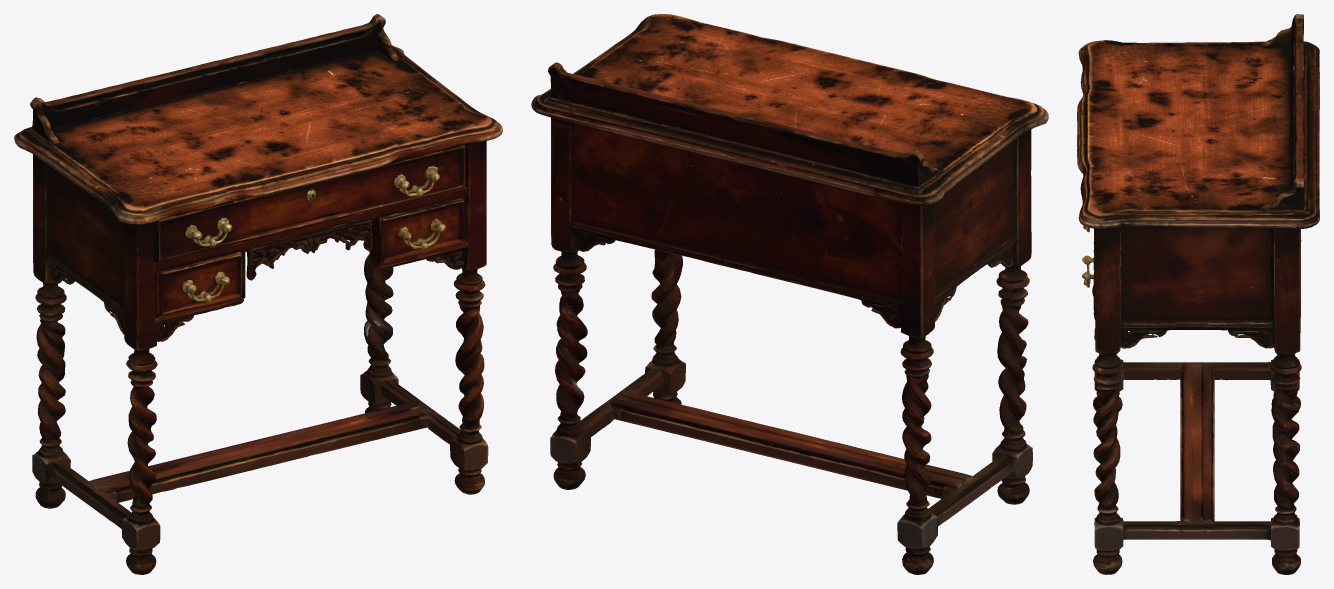
Rendered from victorian_writing_desk.glb.
3 renders of one model, left to right at view 1: azimuth 30°, elevation 25°; view 2: azimuth 150°, elevation 25°; view 3: azimuth 270°, elevation 25°, orthographic. The views are drawn at different scales.
Parts seen in each view (by area): view 1: world; view 2: world; view 3: world.
Boxes of the visible parts, x1,y1,x2,y2 form: world: (14,14,502,574); world: (531,14,1048,574); world: (1077,14,1319,574).
Size of the model in its own units: 1.99 by 1.99 by 1.11.
Materials: 1 (1 with a texture image).
